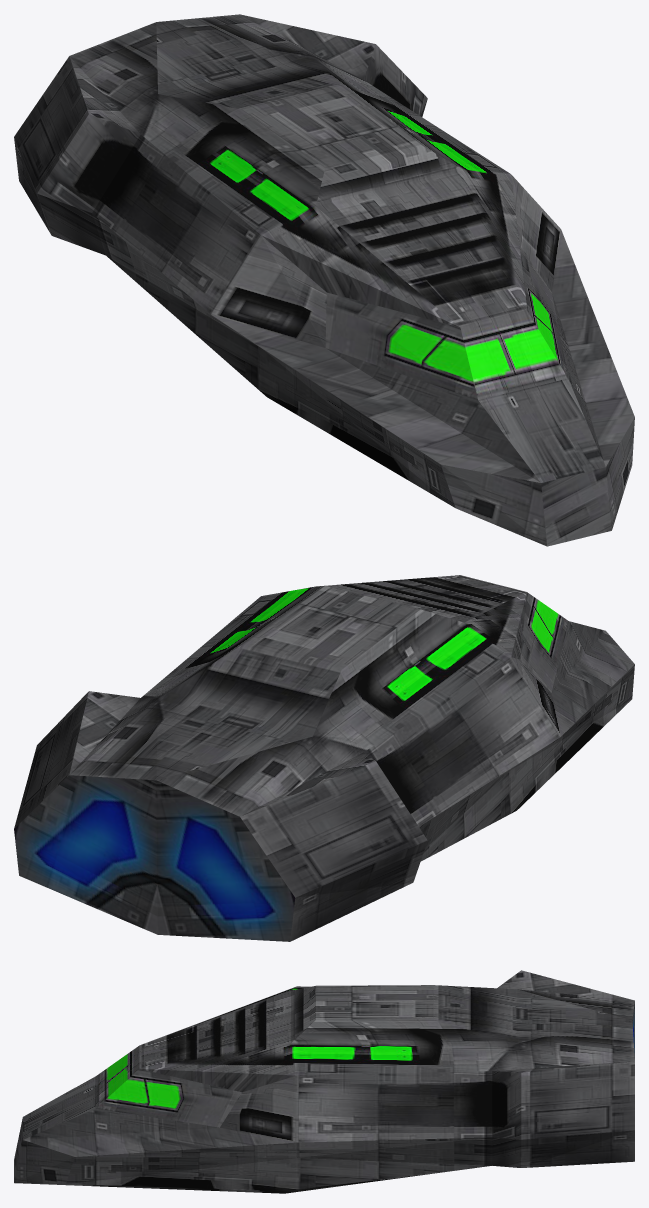
File: shuttleOne.obj
3 renders of one model, top to bottom at view 1: azimuth 30°, elevation 25°; view 2: azimuth 150°, elevation 25°; view 3: azimuth 270°, elevation 25°, orthographic. The views are drawn at different scales.
Visible parts, largest first — view 1: Shuttle01; view 2: Shuttle01; view 3: Shuttle01.
Boxes of the visible parts, <box> form: Shuttle01: <box>14,14,634,546</box>; Shuttle01: <box>14,575,634,941</box>; Shuttle01: <box>14,970,634,1193</box>.
Bounding box in the file's own units: 300 × 169 × 564.
1 material, 1 textured.
